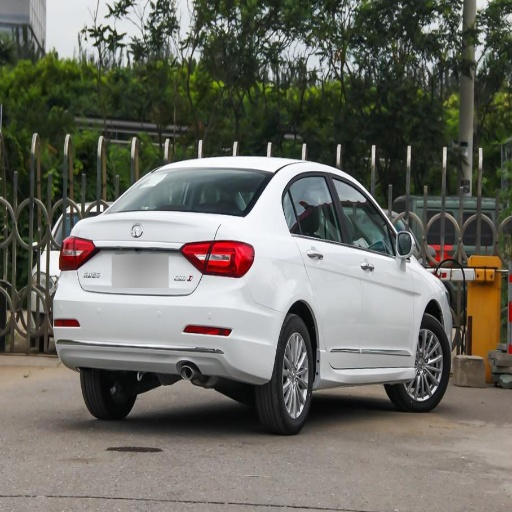back_bumper: (53, 272, 284, 383)
back_right_door: (286, 170, 364, 372)
tailgate: (75, 212, 193, 290)
trunk: (72, 215, 223, 295)
